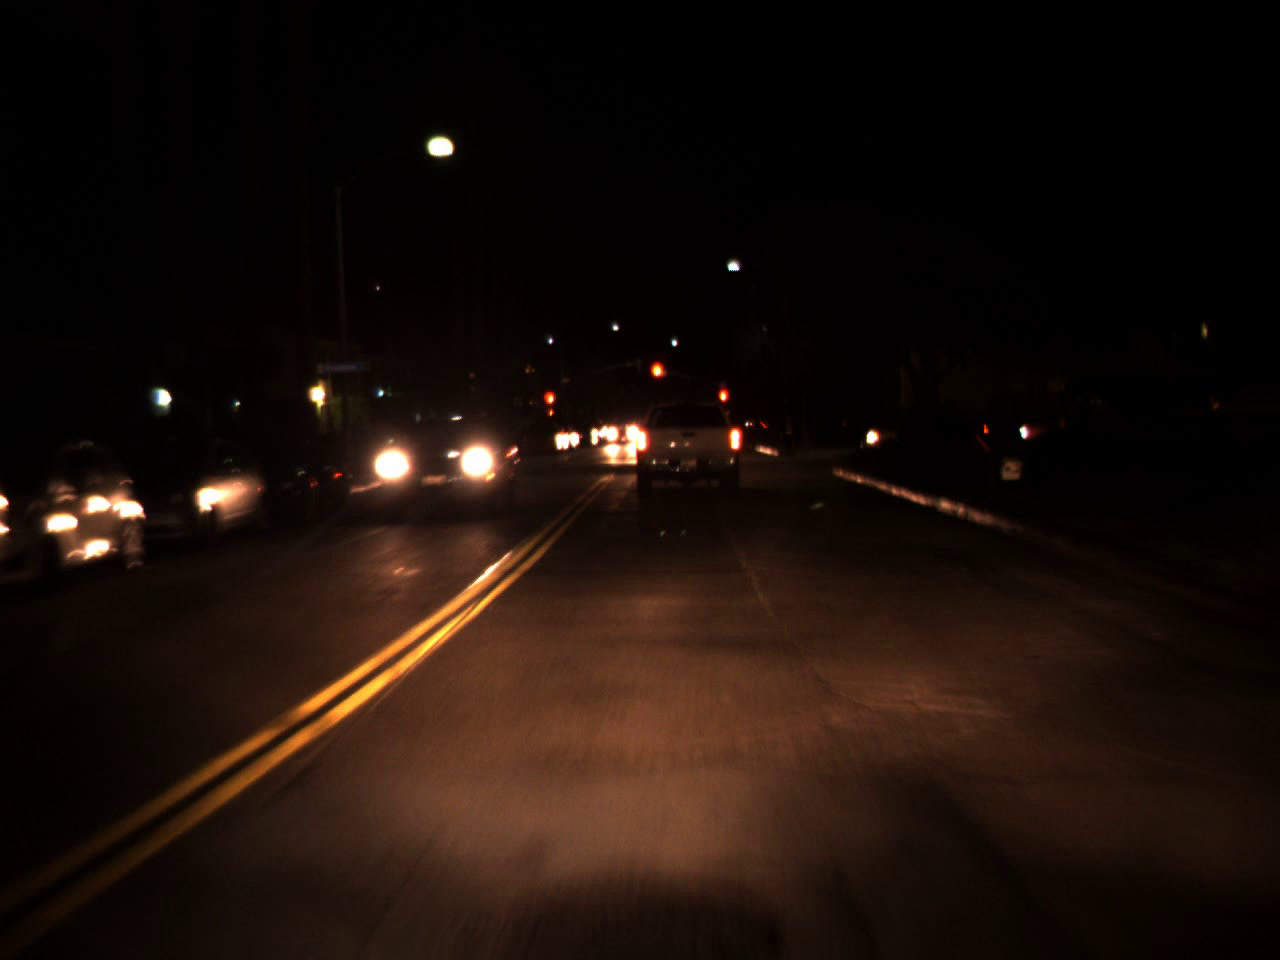stop: (649, 359, 667, 394), (541, 389, 556, 421), (716, 387, 729, 419)
